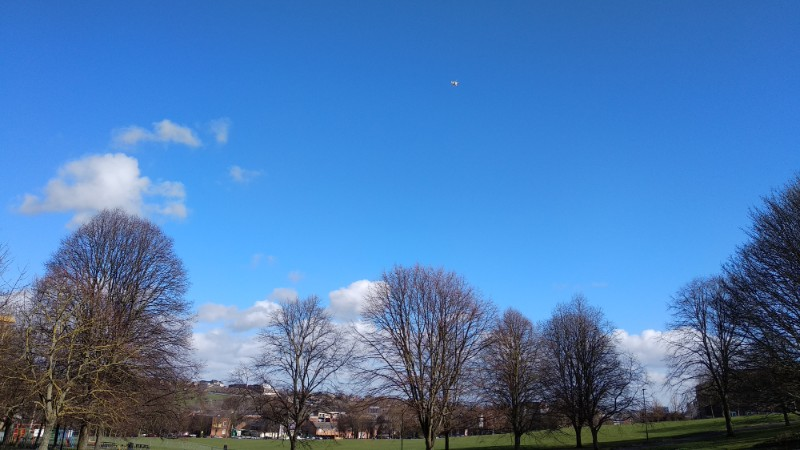drone: (449, 78, 461, 87)
